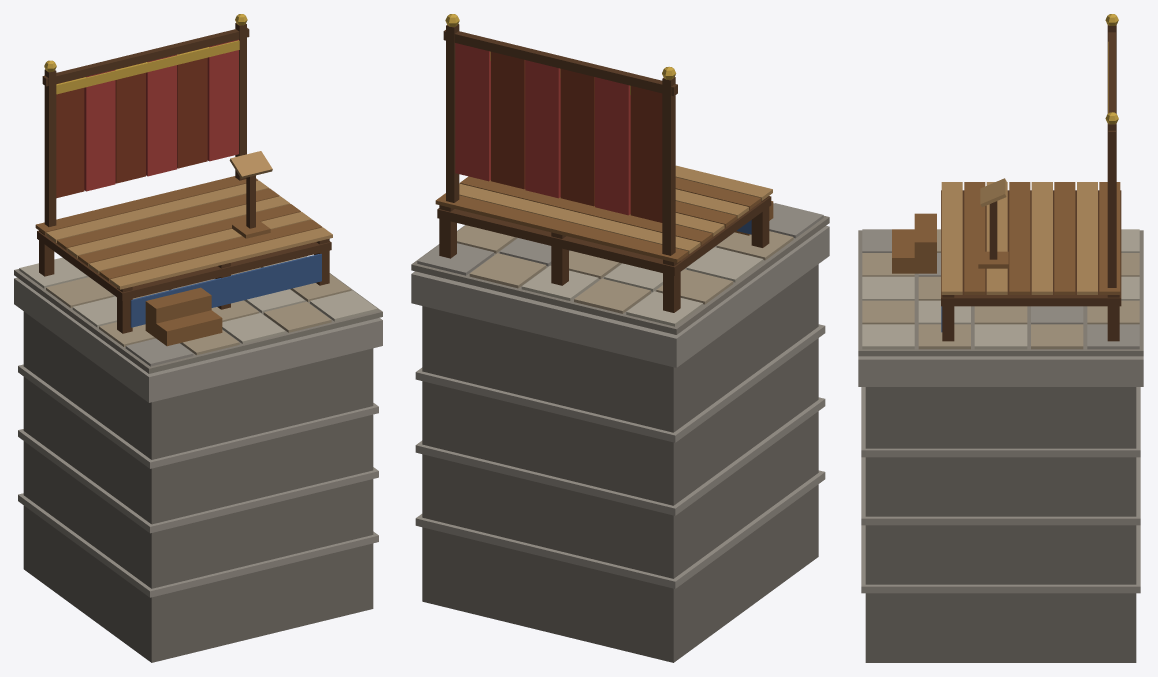
The model's file is decor_stage.glb.
3 renders of one model, left to right at view 1: azimuth 30°, elevation 25°; view 2: azimuth 150°, elevation 25°; view 3: azimuth 270°, elevation 25°, orthographic. The views are drawn at different scales.
Parts seen in each view (by area): view 1: decor_stage; view 2: decor_stage; view 3: decor_stage.
Boxes of the visible parts, x1=… form: decor_stage: x1=14, y1=14, x2=382, y2=662; decor_stage: x1=411, y1=14, x2=829, y2=662; decor_stage: x1=858, y1=14, x2=1143, y2=662.
Size of the model in its own units: 3.8 by 7.97 by 3.8.
